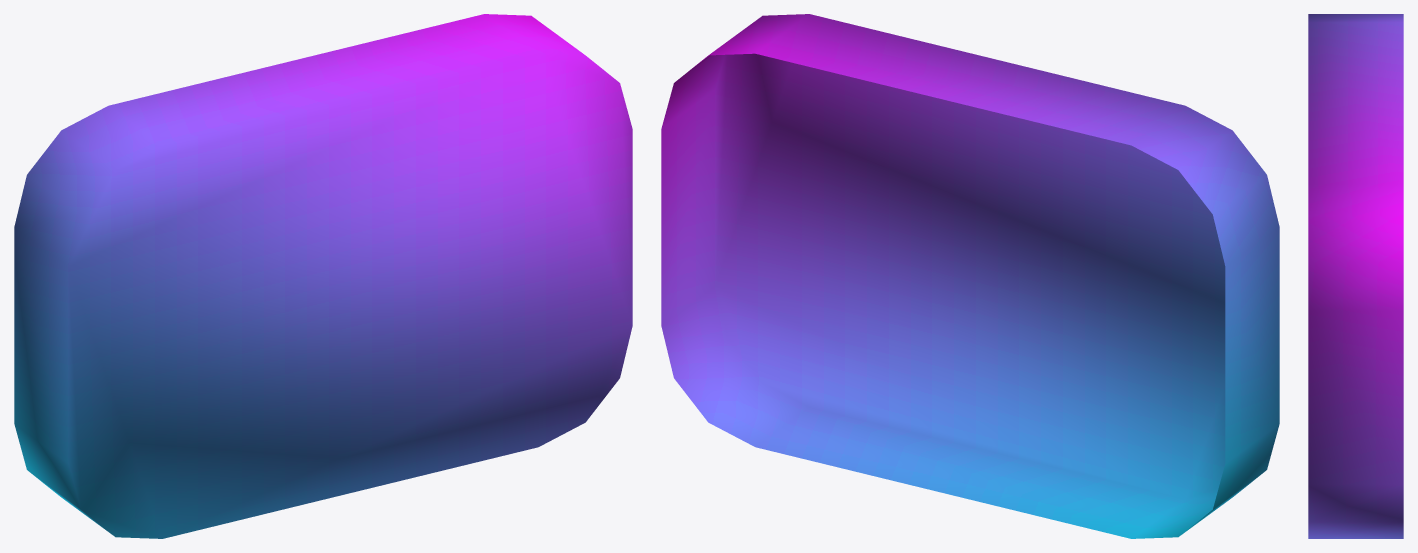
File: ButtonS.glb
3 views of the same model, side by side, from view 1: azimuth 30°, elevation 25°; view 2: azimuth 150°, elevation 25°; view 3: azimuth 270°, elevation 25° (orthographic). The views are drawn at different scales.
Visible parts, largest first — view 1: ButtonS; view 2: ButtonS; view 3: ButtonS.
Part boxes in pixels (x1,y1,x2,y2): ButtonS: [14, 14, 632, 538]; ButtonS: [661, 14, 1279, 538]; ButtonS: [1308, 14, 1403, 538].
Bounding box in the file's own units: 0.3 × 0.2 × 0.05.
1 material, 1 textured.
